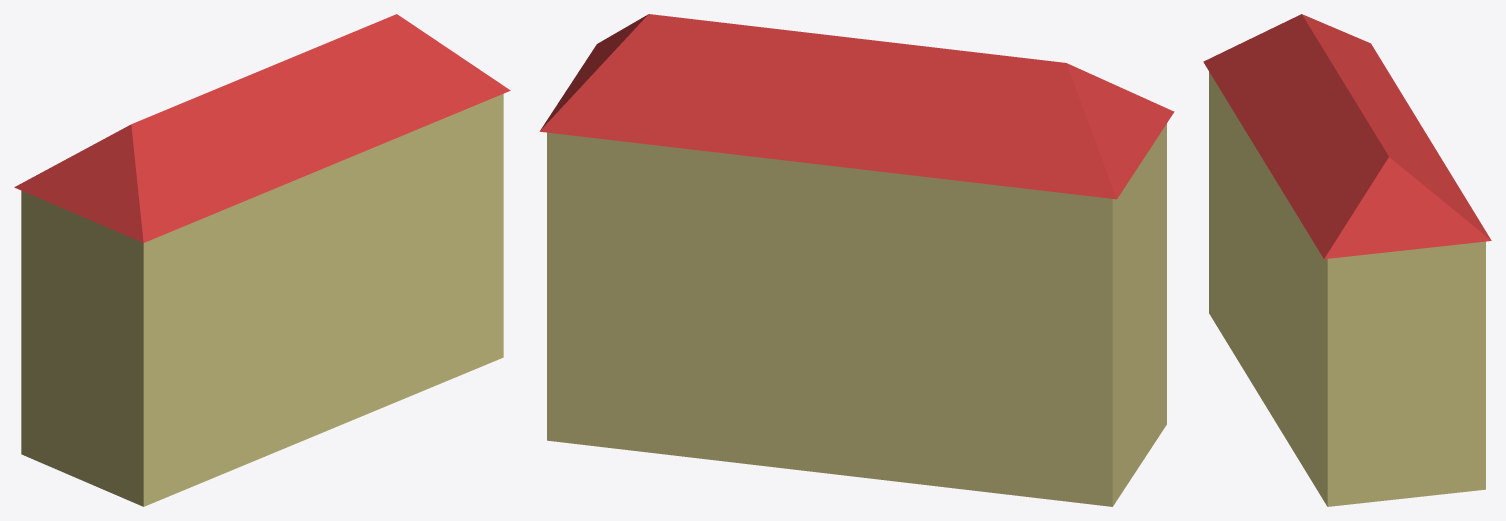
The picture shows the model from 3 angles, left to right: view 1: azimuth 30°, elevation 25°; view 2: azimuth 150°, elevation 25°; view 3: azimuth 270°, elevation 25°; orthographic projection. The views are drawn at different scales.
Visible parts, largest first — view 1: group_5, group_3; view 2: group_5, group_3, group_4; view 3: group_5, group_3, group_4.
Boxes of the visible parts, x1,y1,x2,y2 form: group_5: [21, 94, 503, 506]; group_3: [14, 14, 510, 242]; group_5: [547, 124, 1166, 506]; group_3: [547, 14, 1173, 198]; group_4: [539, 42, 1173, 199]; group_5: [1209, 72, 1485, 506]; group_3: [1203, 14, 1485, 258]; group_4: [1324, 42, 1491, 259].
Bounding box in the file's own units: 26.15 × 14.78 × 17.88.
